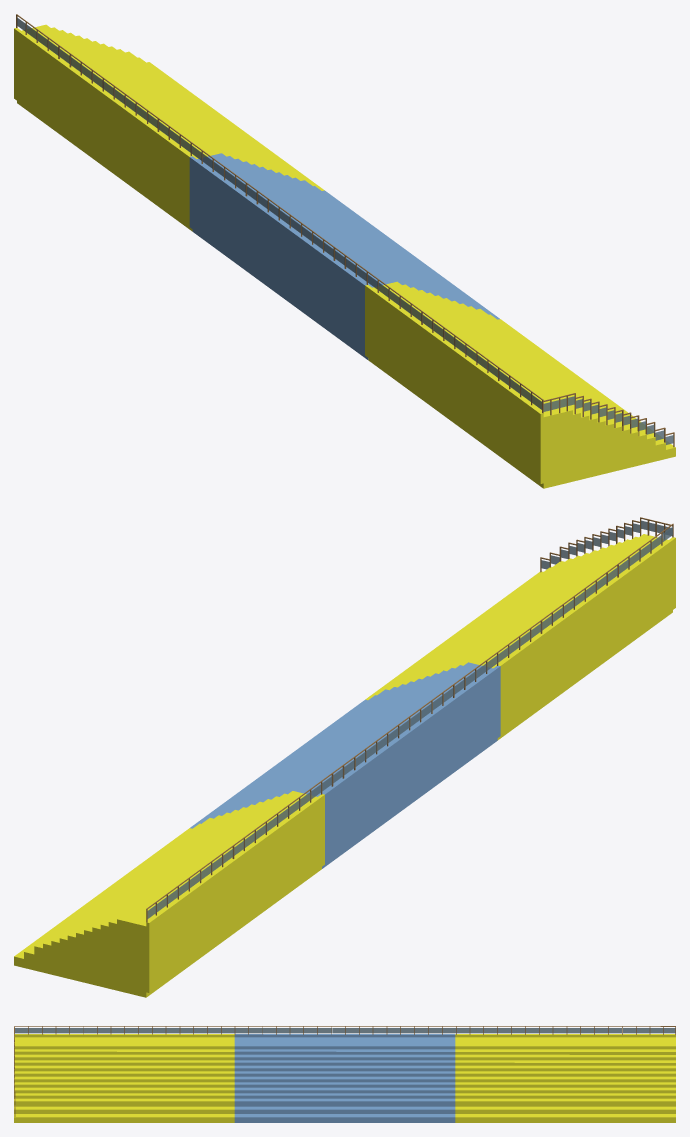
The model's file is gzx2.FBX.
3 views of the same model, one above another, from view 1: azimuth 30°, elevation 25°; view 2: azimuth 150°, elevation 25°; view 3: azimuth 270°, elevation 25° (orthographic). The views are drawn at different scales.
Parts seen in each view (by area): view 1: 组001, Group88; view 2: 组001, Group88; view 3: 组001.
Part boxes in pixels (left/top/right/bottom): 组001: left=14, top=14, right=675, bottom=488; Group88: left=543, top=393, right=674, bottom=447; 组001: left=14, top=523, right=675, bottom=997; Group88: left=540, top=517, right=670, bottom=572; 组001: left=14, top=1026, right=675, bottom=1122.
Size of the model in its own units: 10.52 by 6.6 by 70.81.
